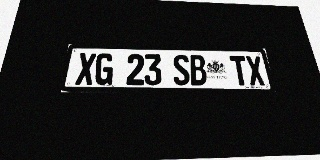2: (126, 54, 144, 85)
3: (144, 54, 162, 85)
B: (189, 55, 208, 85)
G: (94, 53, 114, 85)
S: (172, 55, 191, 85)
T: (229, 56, 250, 85)
X: (75, 53, 96, 85), (245, 56, 266, 86)
